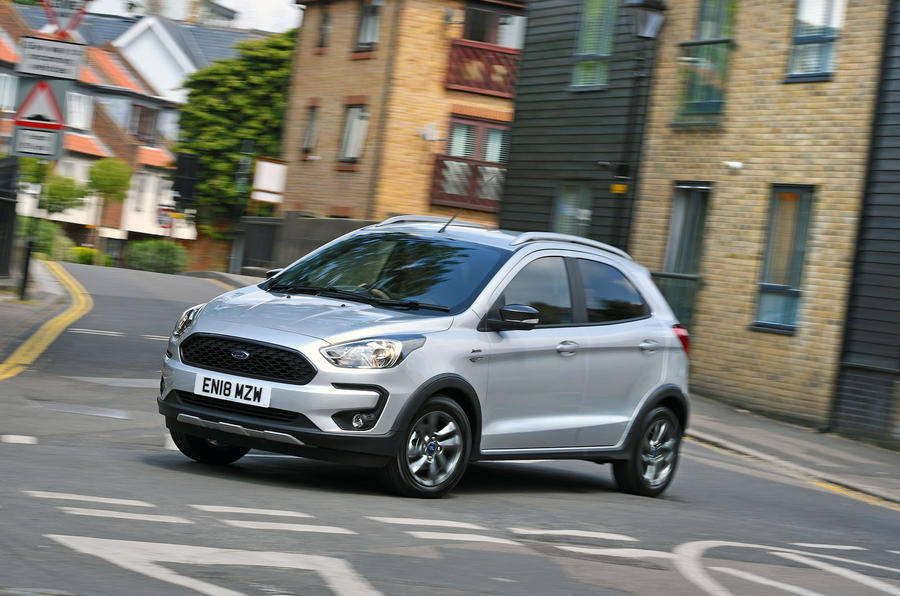car: (155, 216, 691, 499)
